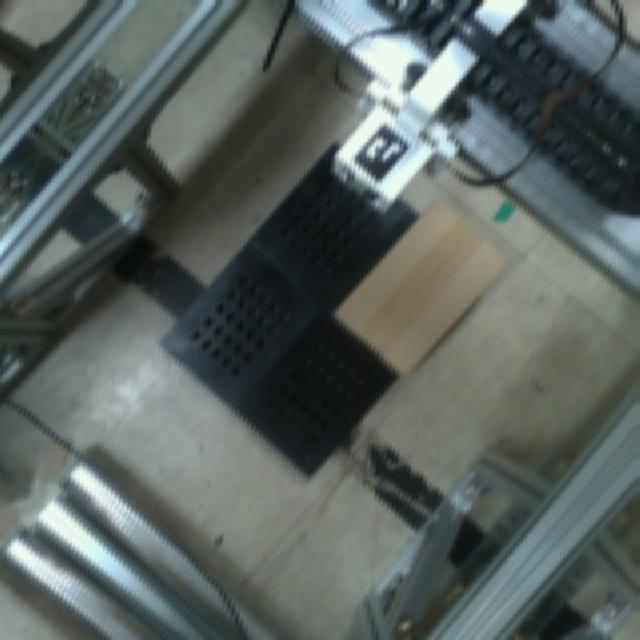box: (327, 184, 523, 386)
